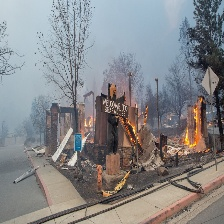fire: (117, 96, 151, 151), (178, 100, 206, 155), (82, 113, 95, 132)
smoke: (5, 1, 70, 153)
